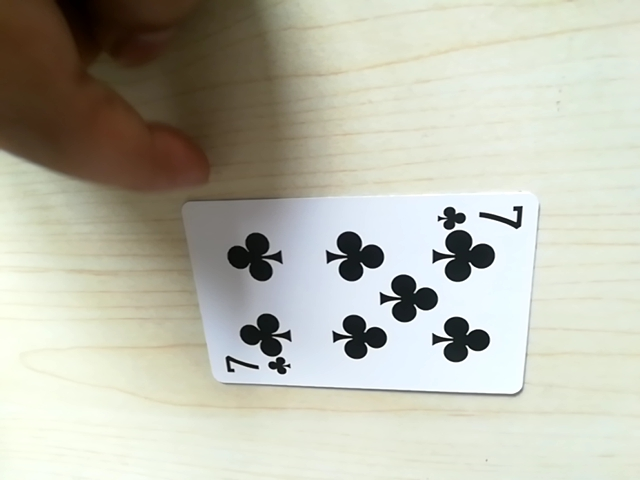mh 7: (444, 198, 524, 229), (217, 352, 291, 385)
